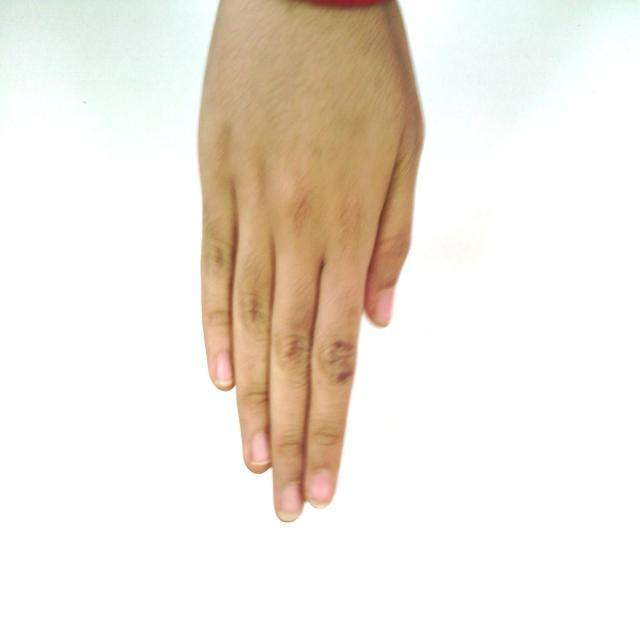Fingernail: (311, 470, 332, 505), (280, 483, 301, 518), (373, 290, 394, 324), (252, 433, 269, 462), (216, 354, 232, 384)
